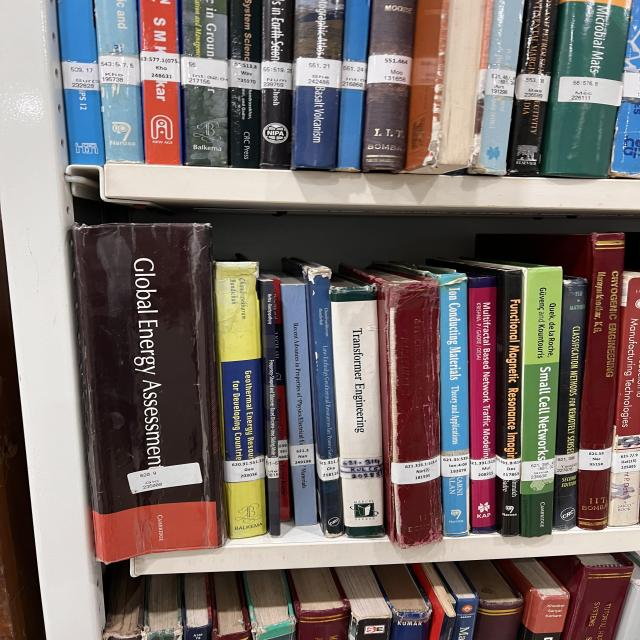Book: (72, 224, 225, 562), (477, 232, 625, 530), (340, 265, 442, 548), (373, 262, 470, 536), (478, 260, 562, 538), (450, 260, 523, 536), (282, 258, 343, 538), (215, 261, 267, 539), (405, 0, 485, 174), (330, 278, 383, 538), (362, 0, 417, 171), (280, 278, 317, 525), (473, 0, 525, 175), (292, 0, 345, 170), (507, 0, 558, 176), (553, 276, 588, 530), (608, 271, 640, 526), (180, 0, 228, 166), (57, 0, 105, 165), (467, 274, 497, 534), (95, 0, 143, 162), (140, 0, 182, 165), (335, 0, 370, 171), (228, 0, 262, 169), (258, 278, 280, 536), (260, 0, 293, 169), (277, 384, 292, 521), (275, 322, 285, 382), (592, 119, 593, 121)
Label: (127, 462, 203, 494), (557, 76, 623, 106), (182, 56, 228, 89), (295, 58, 342, 89), (392, 455, 440, 485), (367, 55, 412, 85), (98, 56, 140, 86), (140, 51, 180, 82), (62, 61, 100, 91), (223, 455, 265, 482), (228, 59, 262, 90), (515, 74, 550, 101), (485, 69, 517, 98), (340, 458, 383, 479), (262, 61, 292, 90), (578, 448, 612, 471), (412, 58, 438, 86), (522, 459, 555, 481), (342, 61, 367, 90), (495, 455, 522, 480), (442, 454, 470, 478), (612, 450, 640, 474), (317, 455, 340, 481), (288, 444, 315, 466), (470, 458, 495, 480), (555, 452, 578, 475), (622, 72, 640, 99), (265, 456, 278, 479), (278, 440, 288, 461)
